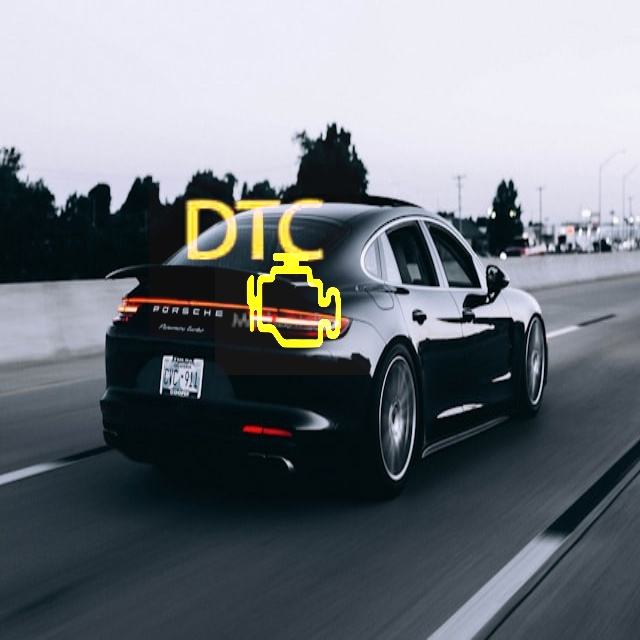symbol: (149, 126, 361, 338), (215, 218, 372, 375)
